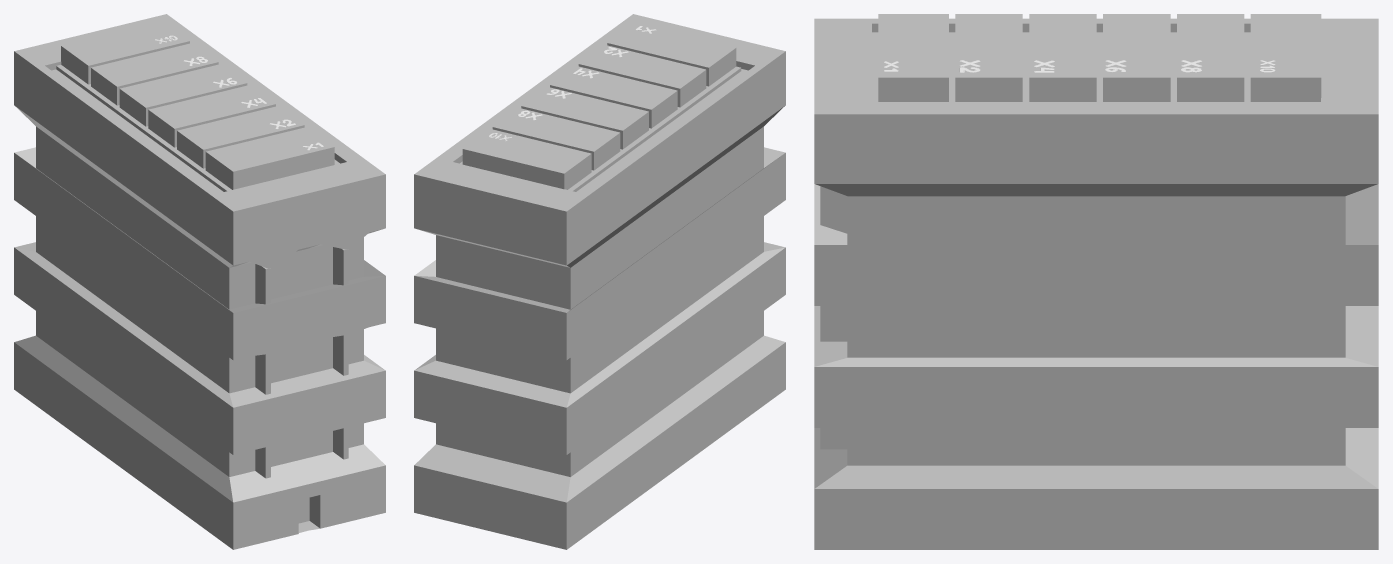
File: badguylv2.fbx
The picture shows the model from 3 angles, left to right: view 1: azimuth 30°, elevation 25°; view 2: azimuth 150°, elevation 25°; view 3: azimuth 270°, elevation 25°; orthographic projection. The views are drawn at different scales.
Parts seen in each view (by area): view 1: Cube.001, Cube.002; view 2: Cube.001, Cube.002; view 3: Cube.001, Cube.002.
Part boxes in pixels (x1,y1,x2,y2): Cube.001: (14, 14, 385, 549); Cube.002: (56, 21, 338, 191); Cube.001: (414, 14, 785, 549); Cube.002: (461, 23, 741, 191); Cube.001: (814, 18, 1378, 549); Cube.002: (878, 14, 1321, 104).
Bounding box in the file's own units: 9759 × 21693 × 24279.
